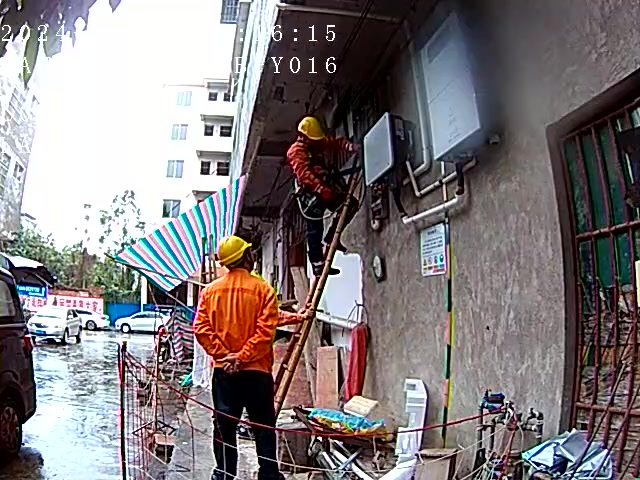downcloth: (213, 371, 277, 480), (304, 190, 359, 263)
halt: (217, 235, 258, 273), (296, 112, 331, 146)
hand: (217, 351, 241, 372)
longglove: (309, 178, 336, 198), (341, 135, 363, 155)
person: (193, 232, 285, 480), (283, 116, 364, 274)
shoe: (307, 247, 340, 278)
yupsuit: (190, 267, 281, 366), (287, 134, 353, 184)
